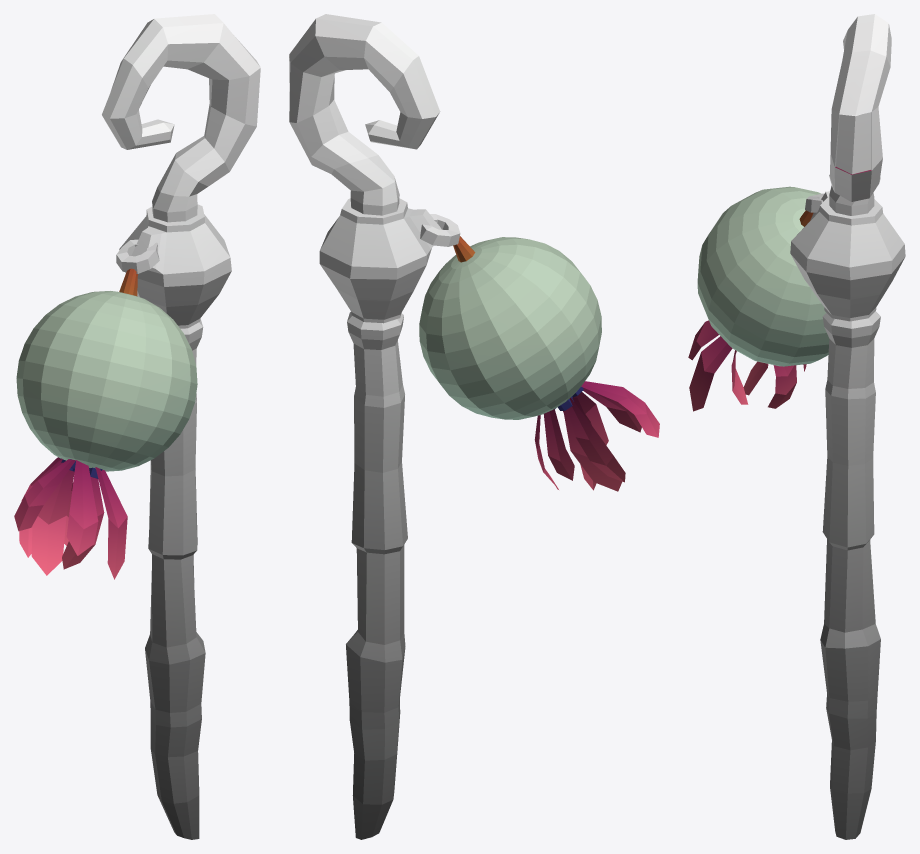
The model's file is staff better shading 2.fbx.
3 renders of one model, left to right at view 1: azimuth 30°, elevation 25°; view 2: azimuth 150°, elevation 25°; view 3: azimuth 270°, elevation 25°, orthographic.
Visible parts, largest first — view 1: base.002, light.002, lattern.002; view 2: base.002, light.002, lattern.002; view 3: base.002, light.002, lattern.002.
Part boxes in pixels (box(x1,y1,x2,y2)): base.002: box(102, 14, 260, 839); light.002: box(16, 291, 197, 471); lattern.002: box(14, 268, 137, 579); base.002: box(289, 14, 460, 839); light.002: box(419, 237, 601, 419); lattern.002: box(453, 236, 659, 491); base.002: box(790, 14, 905, 839); light.002: box(697, 186, 829, 366); lattern.002: box(688, 210, 813, 411).
Size of the model in its own units: 265 by 684 by 166.
